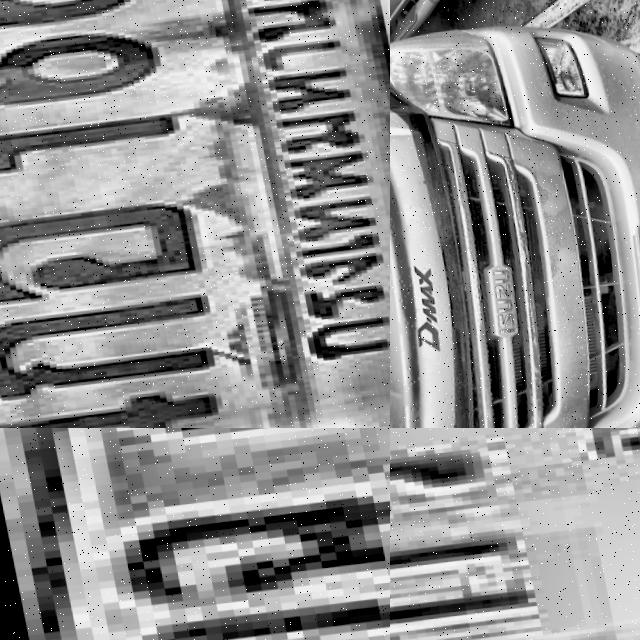license-plate: (0, 0, 390, 428), (0, 428, 390, 640), (390, 428, 640, 640), (609, 215, 640, 351)
